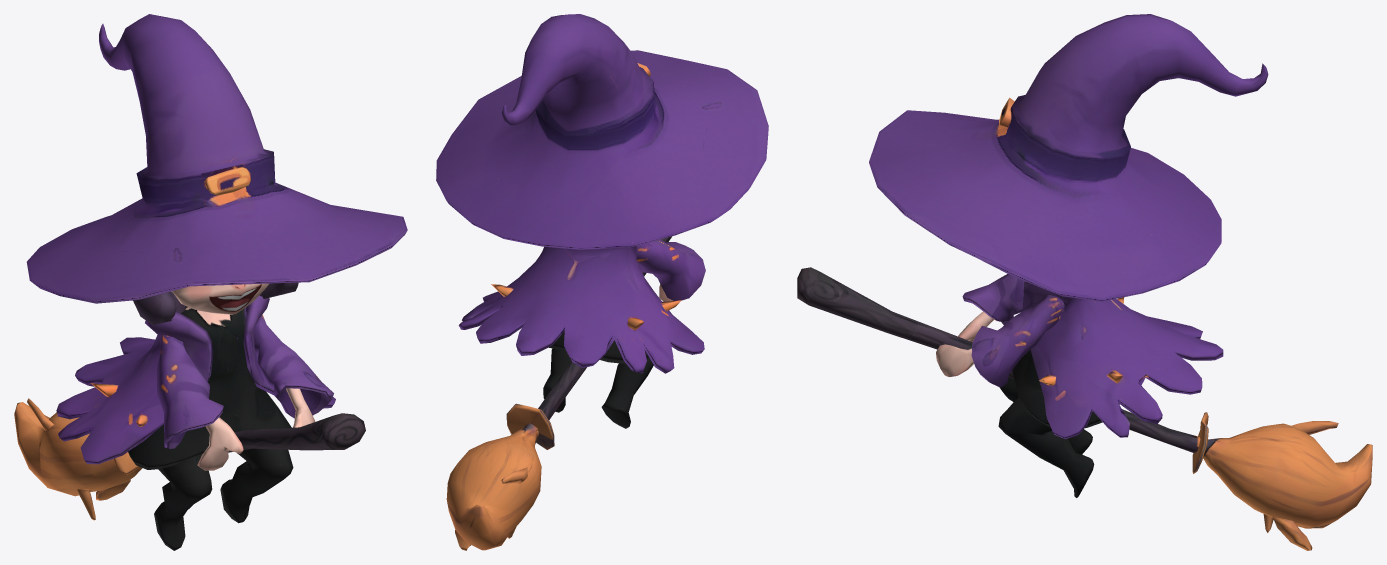
3 views of the same model, side by side, from view 1: azimuth 30°, elevation 25°; view 2: azimuth 150°, elevation 25°; view 3: azimuth 270°, elevation 25° (orthographic). The views are drawn at different scales.
Bounding box in the file's own units: 0.6354 × 1 × 1.
Materials: 1 (1 with a texture image).
